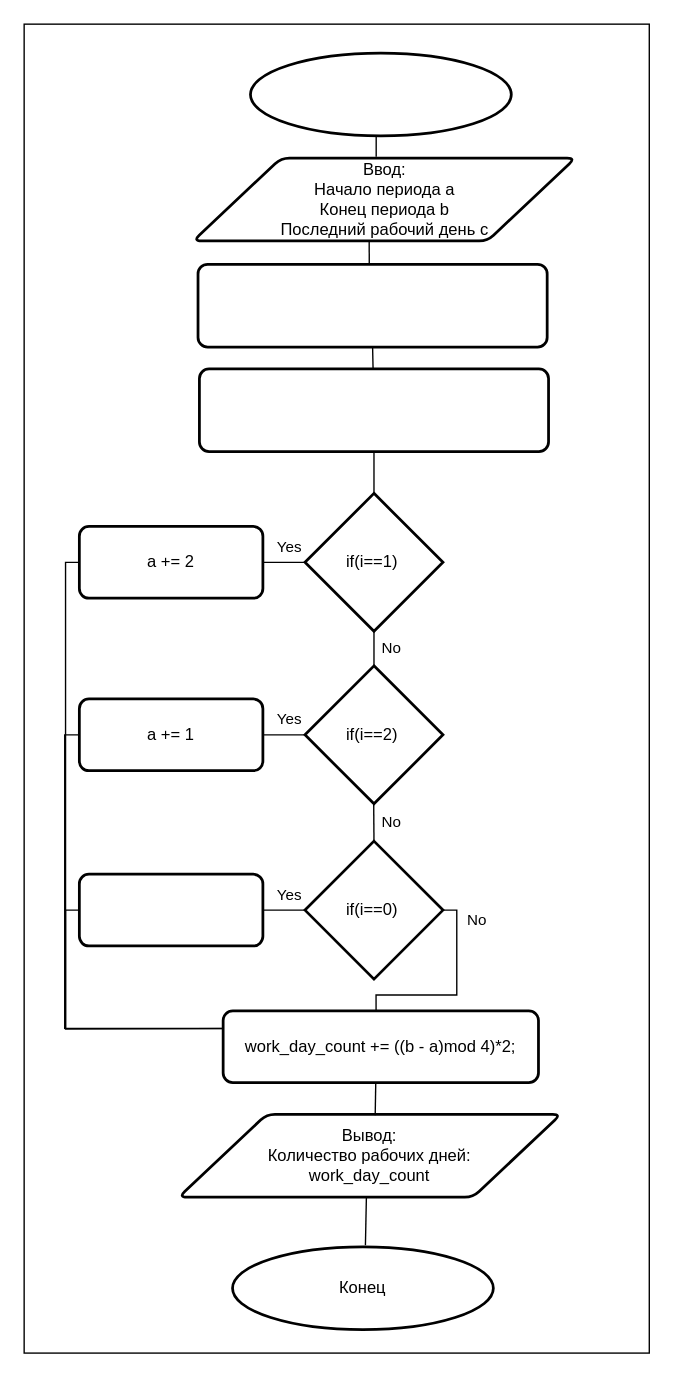
Image size: 673x1377. Some labels were removed from this diagram. Each missing label, with the centre of its shape:
i = (a - c)mod 4: point (373, 409)
i = 0; work_day_count = 0;: point (372, 305)
work_day_count += 1;: point (170, 909)
Начало: point (380, 94)
